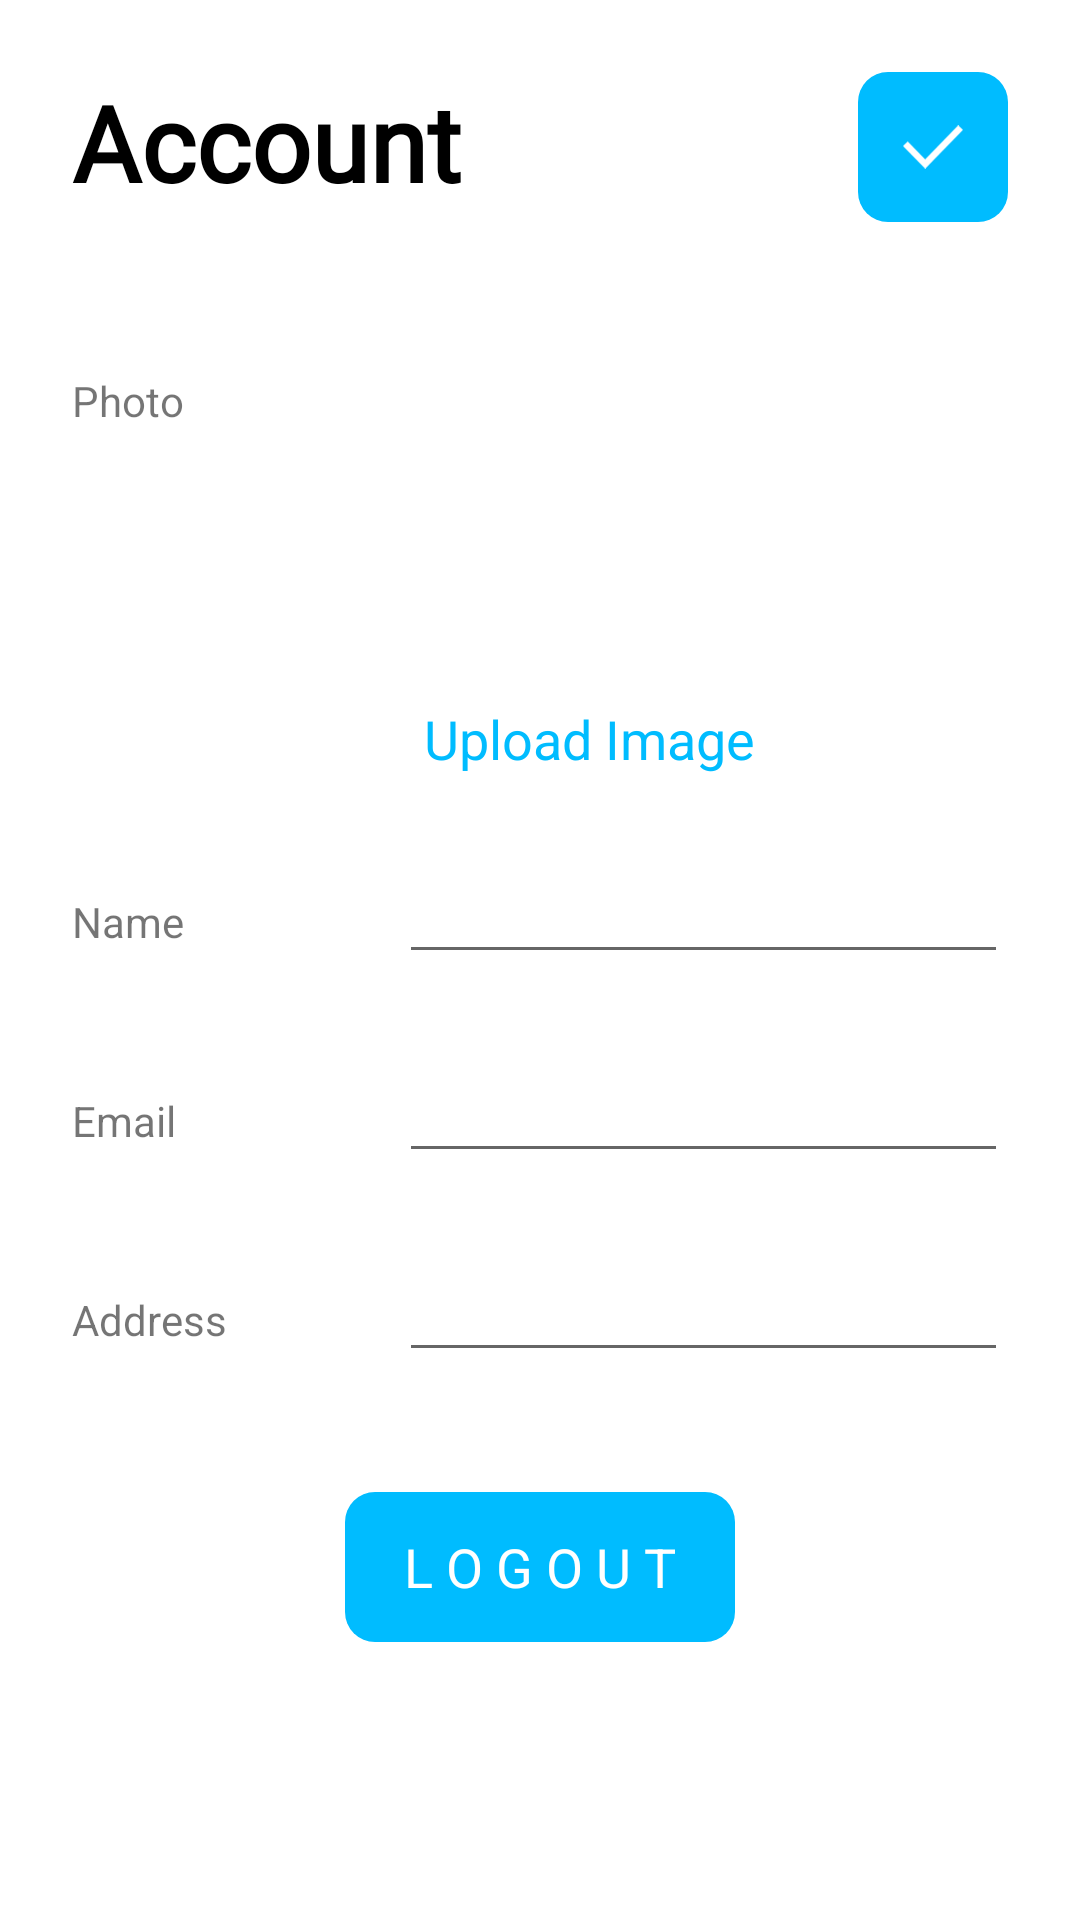

Locate icon controls on the screen. Image size 1080×1920, boxes as (x1, y1, x2, y2).
account tick: (903, 125, 963, 169)
